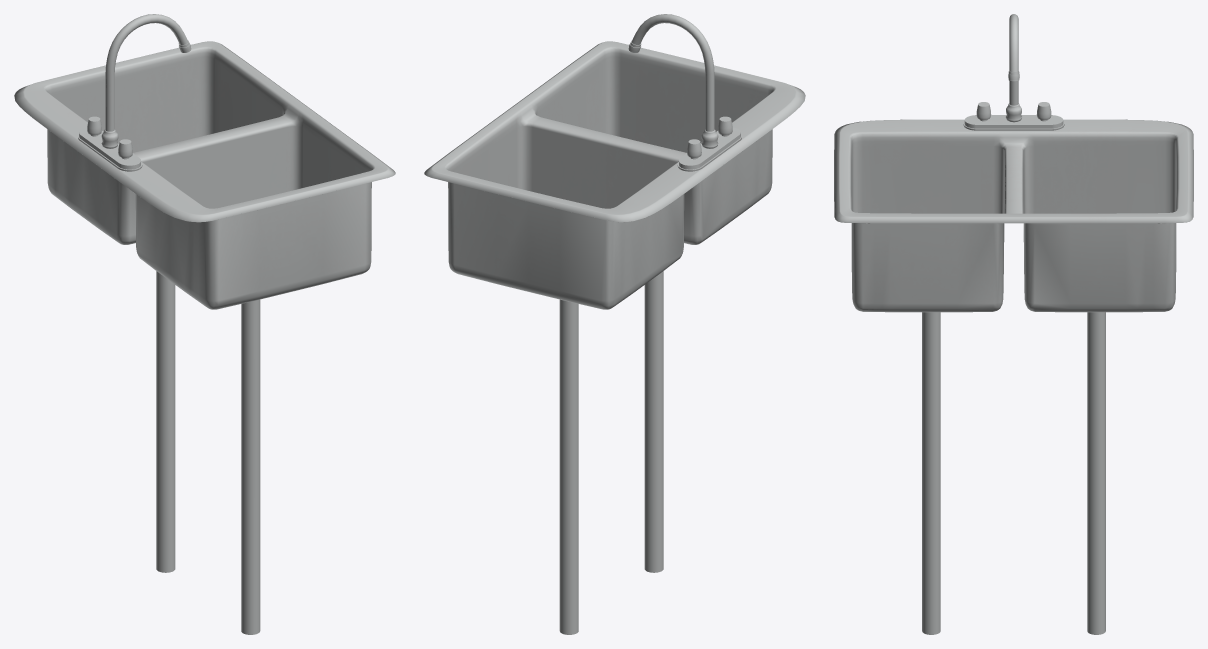
Rendered from s_ink.fbx.
The picture shows the model from 3 angles, left to right: view 1: azimuth 30°, elevation 25°; view 2: azimuth 150°, elevation 25°; view 3: azimuth 270°, elevation 25°; orthographic projection. The views are drawn at different scales.
Parts seen in each view (by area): view 1: KitchenSink, KitchenSinkFaucet; view 2: KitchenSink, KitchenSinkFaucet; view 3: KitchenSink, KitchenSinkFaucet.
Boxes of the visible parts, x1,y1,x2,y2 form: KitchenSink: [14, 41, 395, 634]; KitchenSinkFaucet: [101, 14, 191, 148]; KitchenSink: [424, 41, 805, 634]; KitchenSinkFaucet: [628, 14, 718, 148]; KitchenSink: [834, 115, 1193, 634]; KitchenSinkFaucet: [1006, 14, 1021, 122].
Size of the model in its own units: 56.74 by 149 by 83.32.
